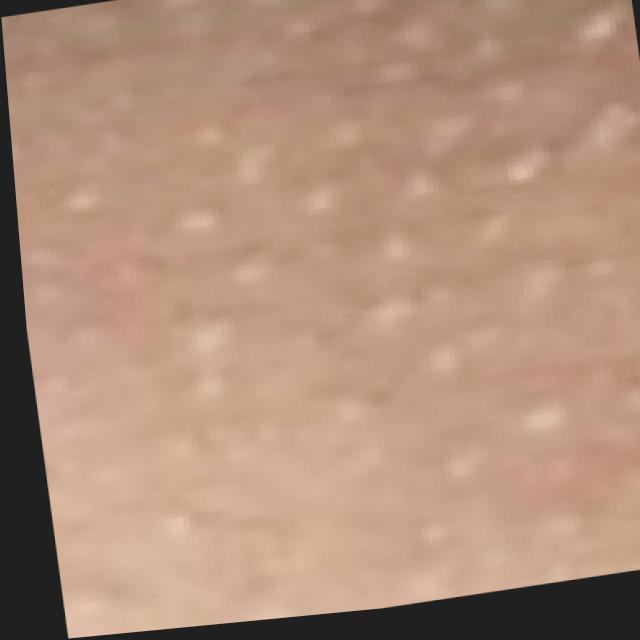whitehead: (12, 0, 640, 635)
